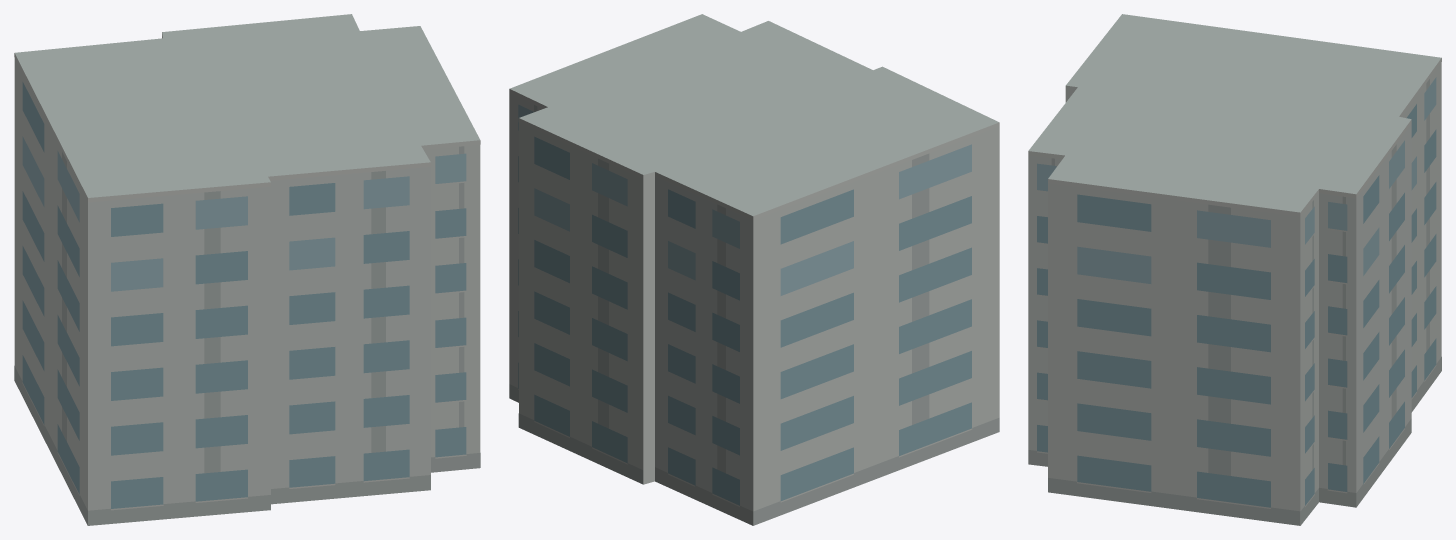
File: survey-upis-32839747.glb
3 views of the same model, side by side, from view 1: azimuth 30°, elevation 25°; view 2: azimuth 150°, elevation 25°; view 3: azimuth 270°, elevation 25° (orthographic). The views are drawn at different scales.
Parts seen in each view (by area): view 1: survey-upis-32839747.tmp; view 2: survey-upis-32839747.tmp; view 3: survey-upis-32839747.tmp.
Part boxes in pixels (x1,y1,x2,y2): survey-upis-32839747.tmp: [14, 14, 480, 525]; survey-upis-32839747.tmp: [509, 14, 999, 525]; survey-upis-32839747.tmp: [1028, 14, 1441, 525].
Bounding box in the file's own units: 23.99 × 17.65 × 21.12.
